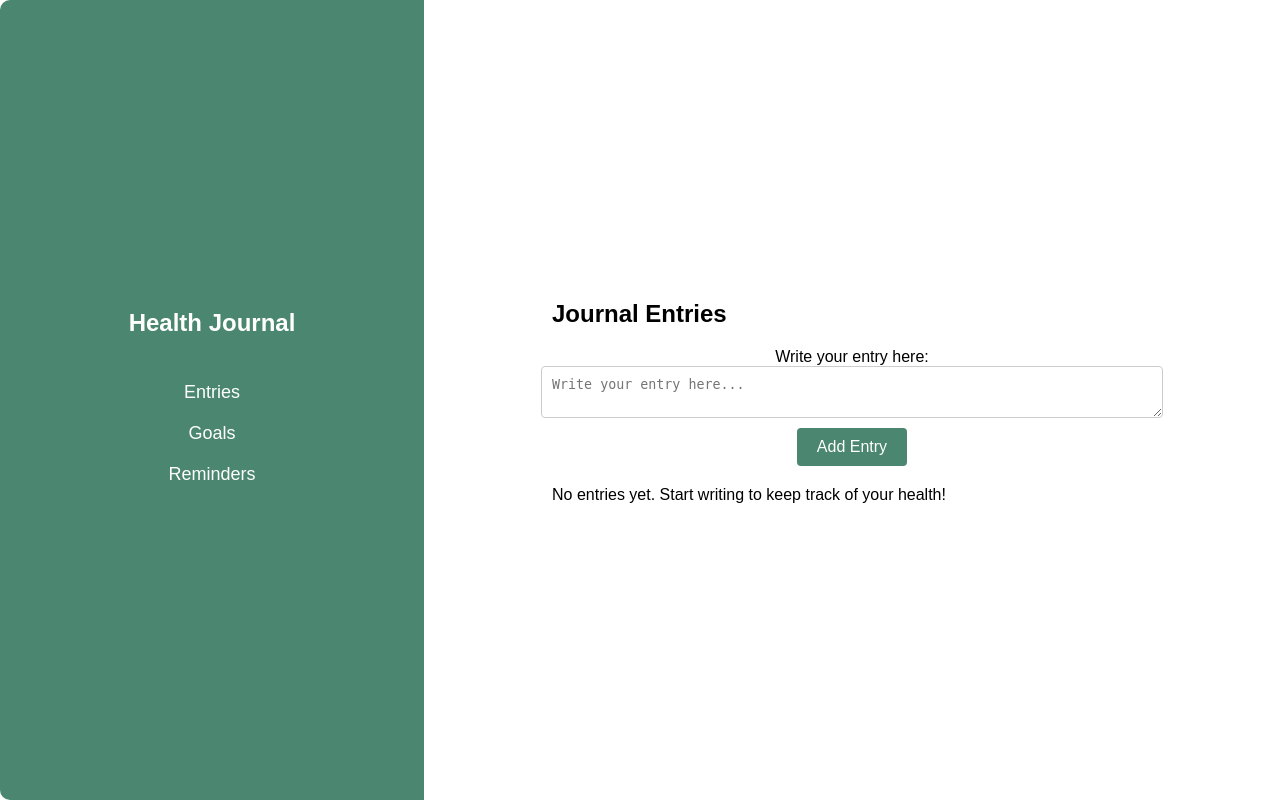
Test: Journal Component › allows switching to Reminders section
Click the button "Reminders".
click(212, 474)  # box [168,464,256,484]
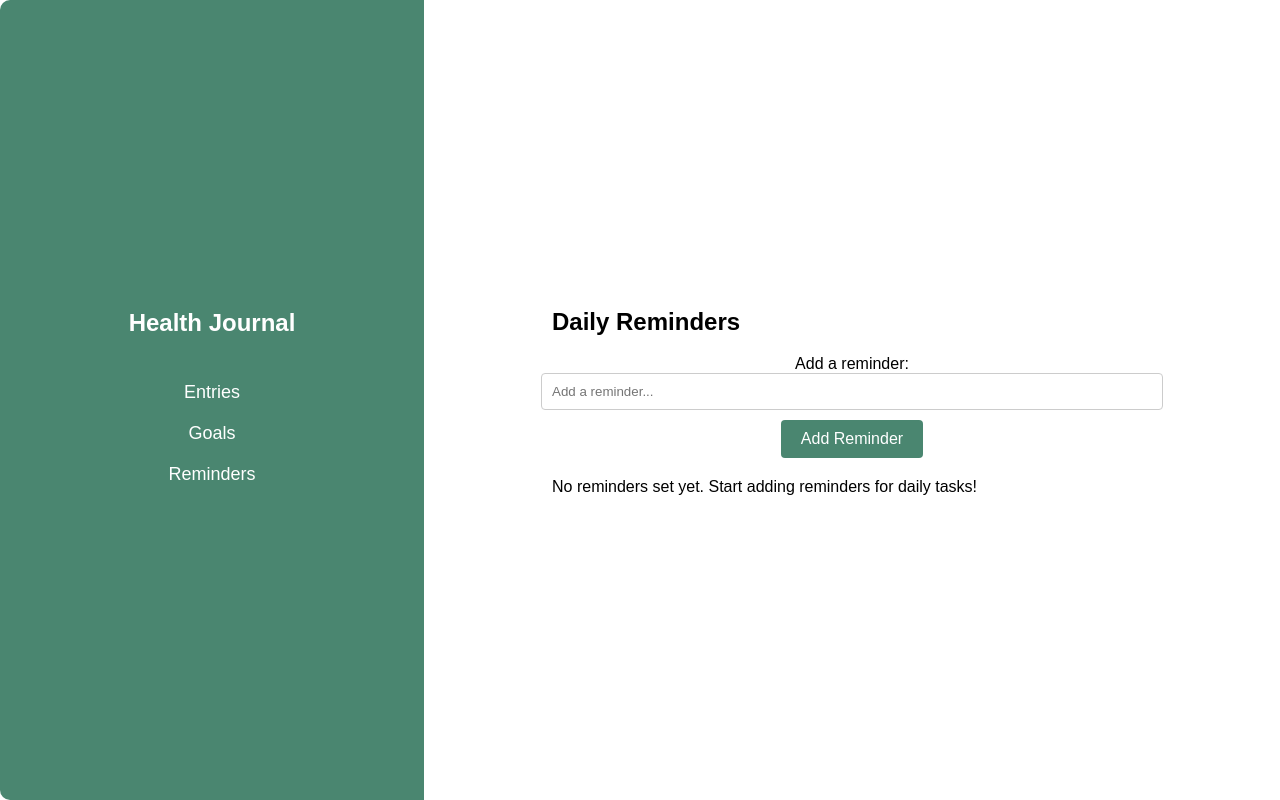
Result: the heading "Daily Reminders" is shown at [552,308,740,334]
